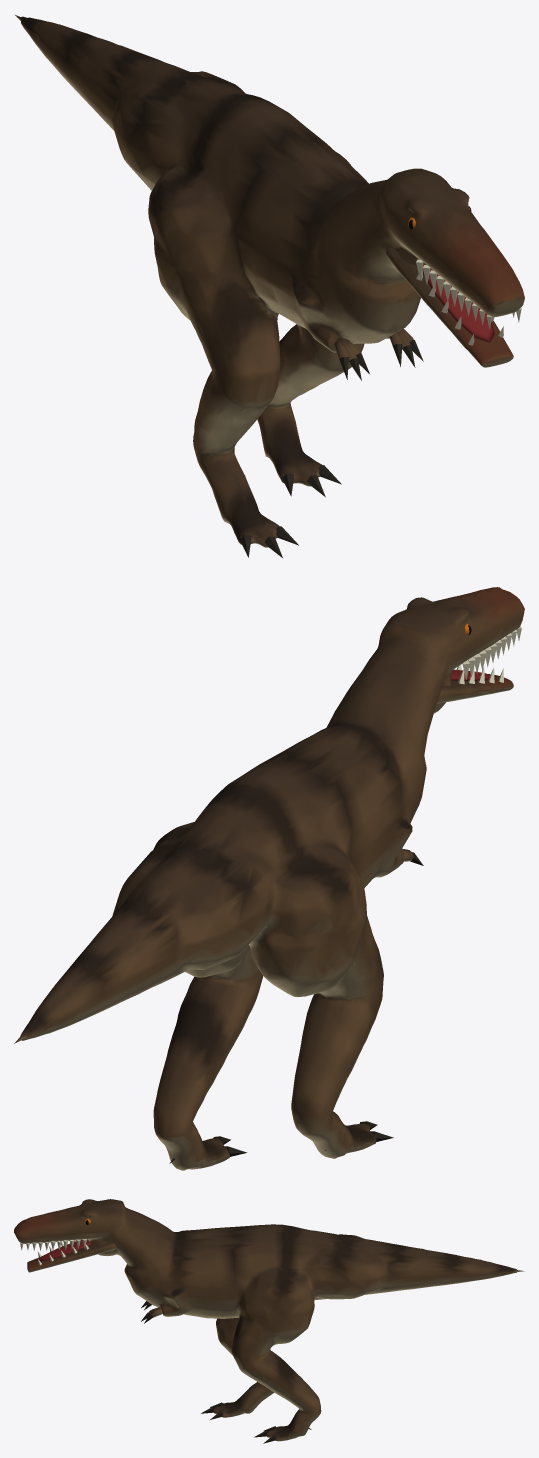
Rendered from Torvosaurus.fbx.
The picture shows the model from 3 angles, top to bottom: view 1: azimuth 30°, elevation 25°; view 2: azimuth 150°, elevation 25°; view 3: azimuth 270°, elevation 25°; orthographic projection. The views are drawn at different scales.
Visible parts, largest first — view 1: Torvosaurus; view 2: Torvosaurus; view 3: Torvosaurus.
Boxes of the visible parts, left/top/right/bottom form: Torvosaurus: left=15, top=15, right=524, bottom=557; Torvosaurus: left=14, top=587, right=524, bottom=1170; Torvosaurus: left=14, top=1199, right=524, bottom=1443.
Size of the model in its own units: 0.6669 by 1.45 by 2.99.
